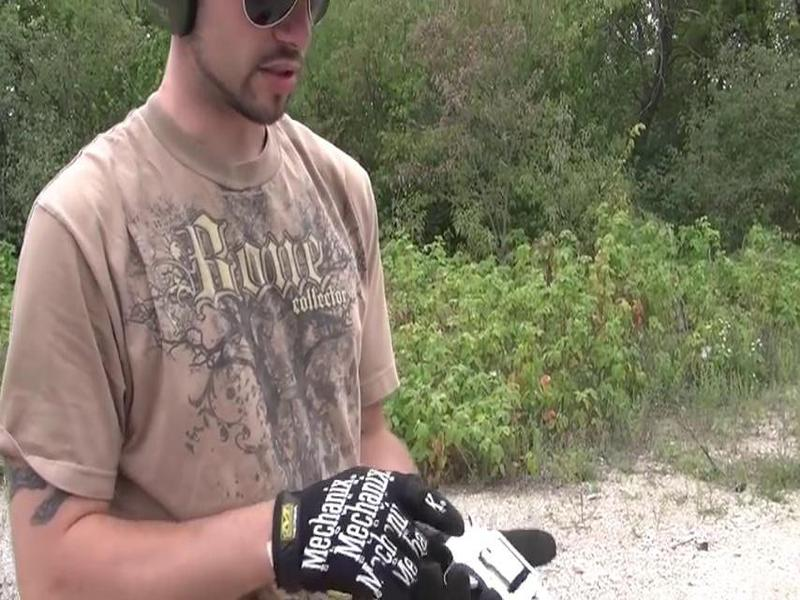Revolver: (332, 490, 546, 600)
